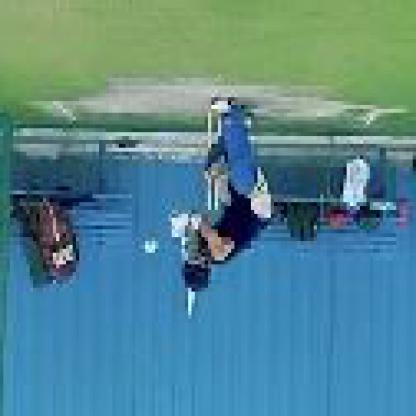ball: (142, 235, 162, 258)
